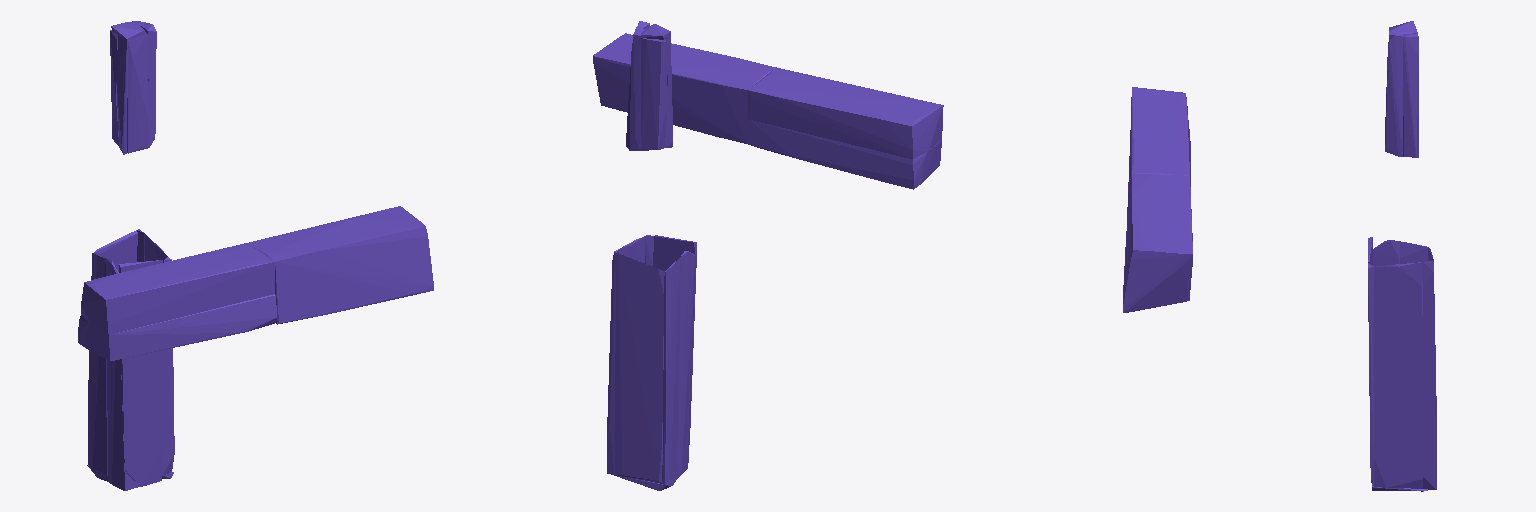
The robot description file, URDF, robot "blob815":
<robot name="blob815">
  <link name="random_obj_815">
    <contact>
      <lateral_friction value="1.0"/>
      <rolling_friction value="0.0"/>
      <inertia_scaling value="3.0"/>
      <contact_cfm value="0.0"/>
      <contact_erp value="1.0"/>
    </contact>
    <inertial>
      <origin rpy="0 0 0" xyz="0 0 0"/>
      <mass value="0.1"/>
      <inertia ixx="1" ixy="0" ixz="0" iyy="1" iyz="0" izz="0"/>
    </inertial>
    <visual>
      <origin rpy="0 0 0" xyz="0 0 0"/>
      <geometry>
        <mesh filename="815.obj" scale="0.015 0.015 0.015"/>
      </geometry>
      <material name="blockmat">
        <color rgba="0.46 0.37 0.79 1"/>
      </material>
    </visual>
    <collision>
      <origin rpy="0 0 0" xyz="0 0 0"/>
      <geometry>
        <mesh filename="815.obj" scale="0.015 0.015 0.015"/>
      </geometry>
    </collision>
  </link>
</robot>

--- What the picture shows (computed from the rendered views, not written in the file) ---
Views: 3 orthographic renders of the robot side by side, from view 1: azimuth 30°, elevation 25°; view 2: azimuth 150°, elevation 25°; view 3: azimuth 270°, elevation 25°.
Model blob815 with 1 links and 0 joints (none), rooted at random_obj_815, posed all joints at 0.
Visible links, largest first — view 1: random_obj_815; view 2: random_obj_815; view 3: random_obj_815.
Boxes of the visible links, x1,y1,x2,y2 form: random_obj_815: (78,21,433,490); random_obj_815: (593,21,943,490); random_obj_815: (1123,21,1436,491).
Bounding box of the posed robot: 0.0923 × 0.0769 × 0.1228 m (x, y, z).
1 mesh visuals loaded from 1 distinct referenced files (1 OBJ).